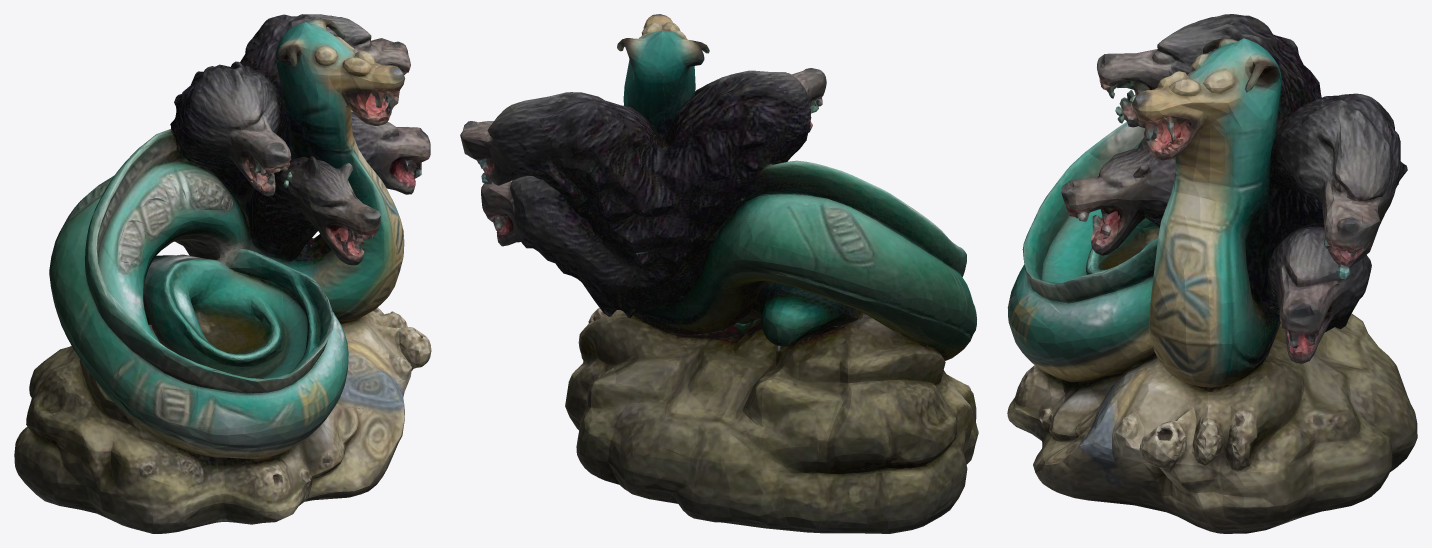
Rendered from brinegrave__houndsOfTheDeep.glb.
The picture shows the model from 3 angles, left to right: view 1: azimuth 30°, elevation 25°; view 2: azimuth 150°, elevation 25°; view 3: azimuth 270°, elevation 25°; orthographic projection. The views are drawn at different scales.
Parts seen in each view (by area): view 1: world; view 2: world; view 3: world.
Boxes of the visible parts, x1,y1,x2,y2 form: world: (14,14,431,533); world: (460,14,978,533); world: (1007,14,1417,533).
Size of the model in its own units: 0.9989 by 0.9181 by 0.7305.
1 material, 1 textured.
